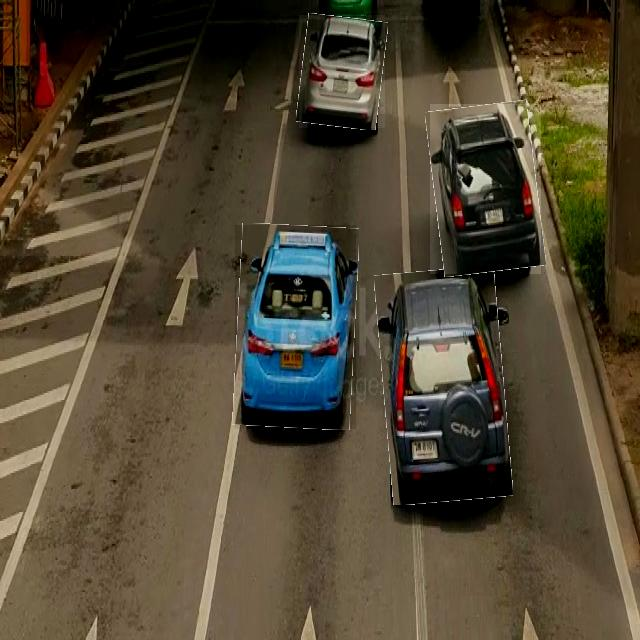Car: (379, 268, 509, 503), (235, 225, 356, 429), (430, 104, 541, 274), (299, 15, 385, 128)
